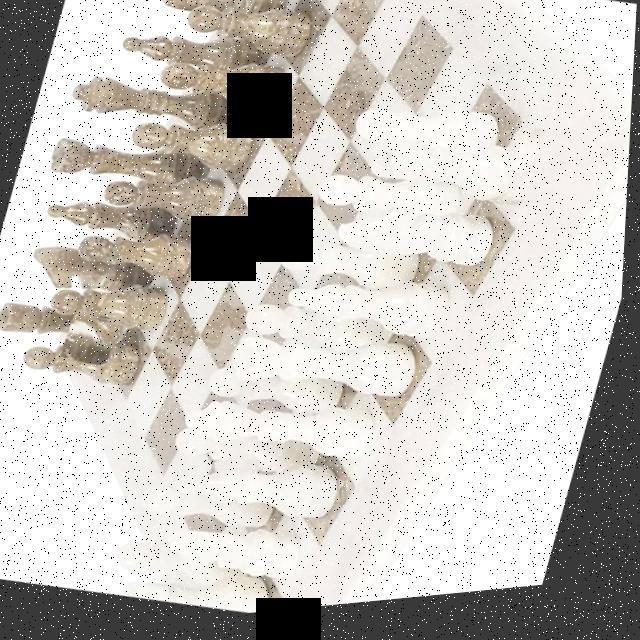chess-table-corners: (504, 131, 596, 224), (62, 308, 126, 372)
